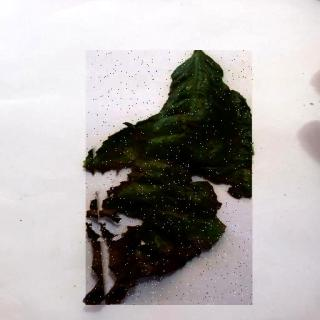Algal Leaf: (87, 51, 255, 306)
